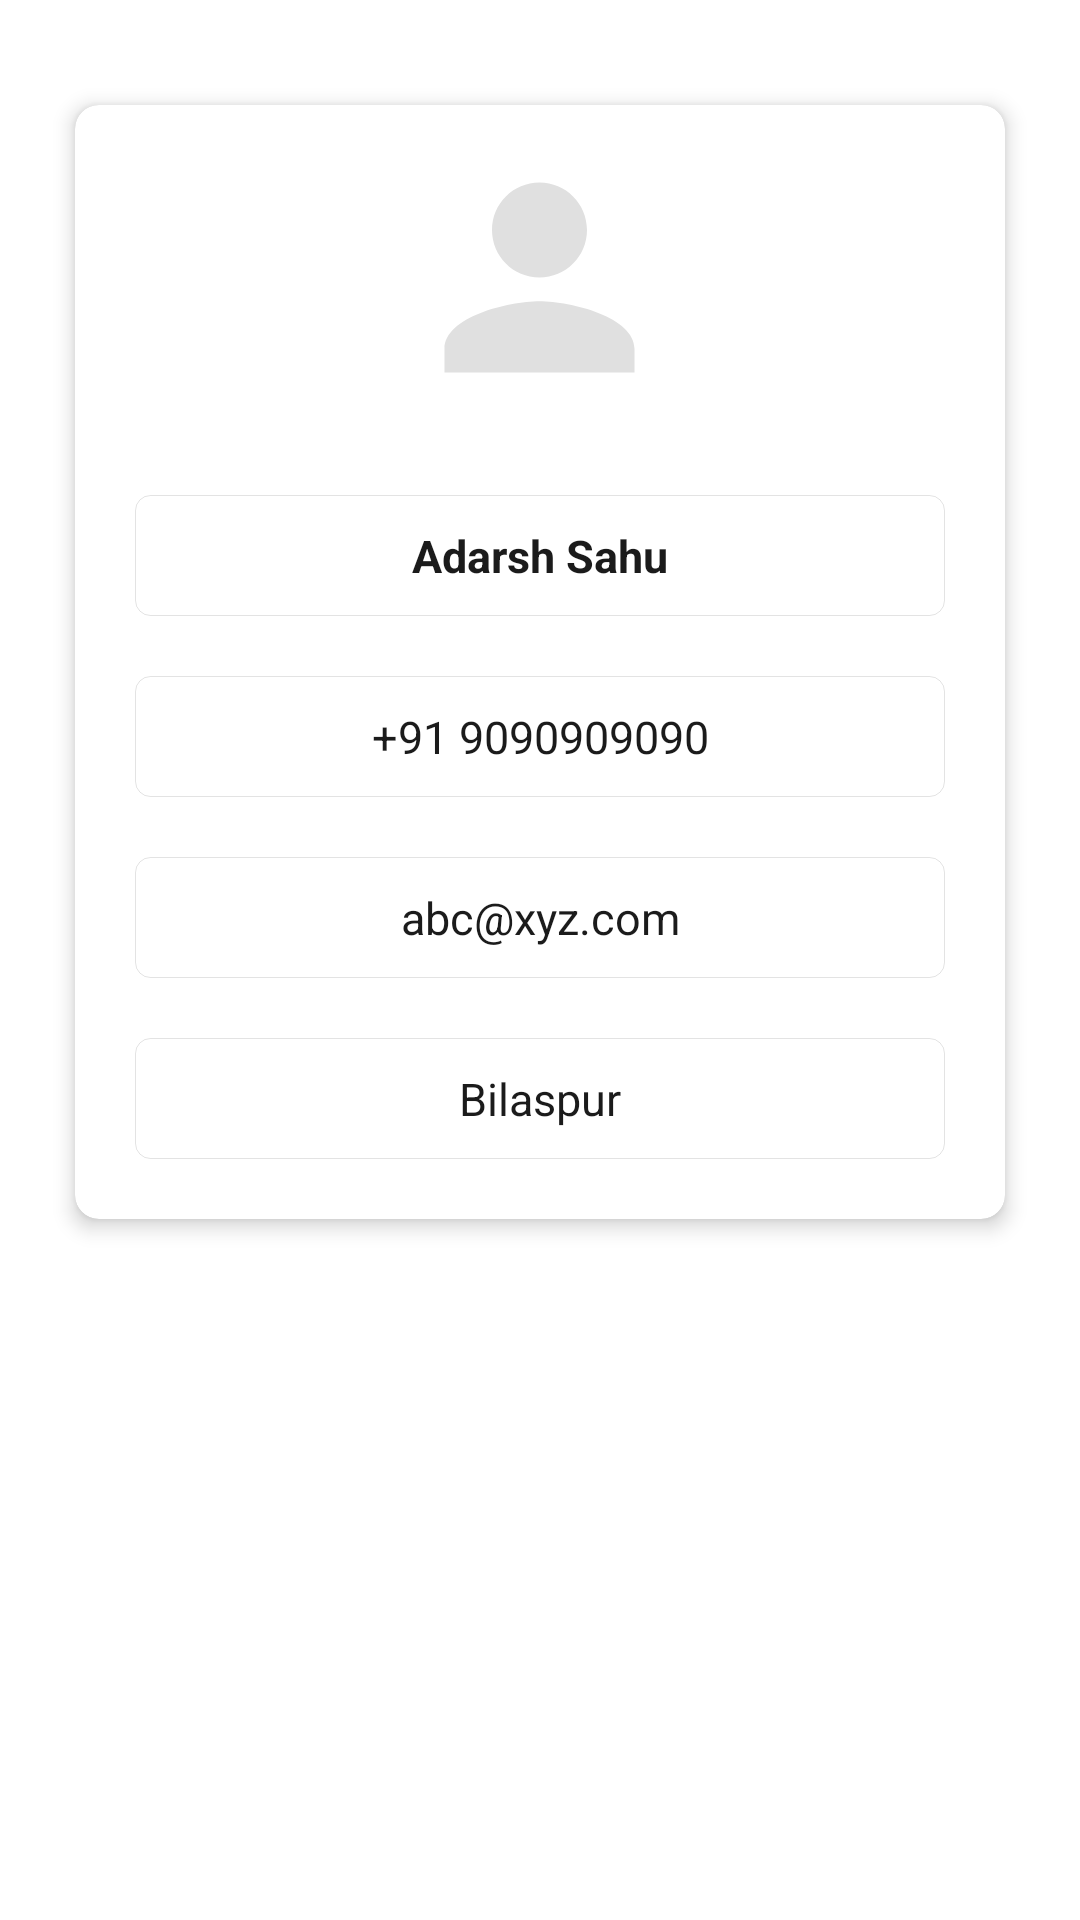

Locate icon controls on the screen. Image size 1080px x 1920px, boxes as BBox(x1, y1, x2, y2).
person: BBox(445, 183, 634, 372)
